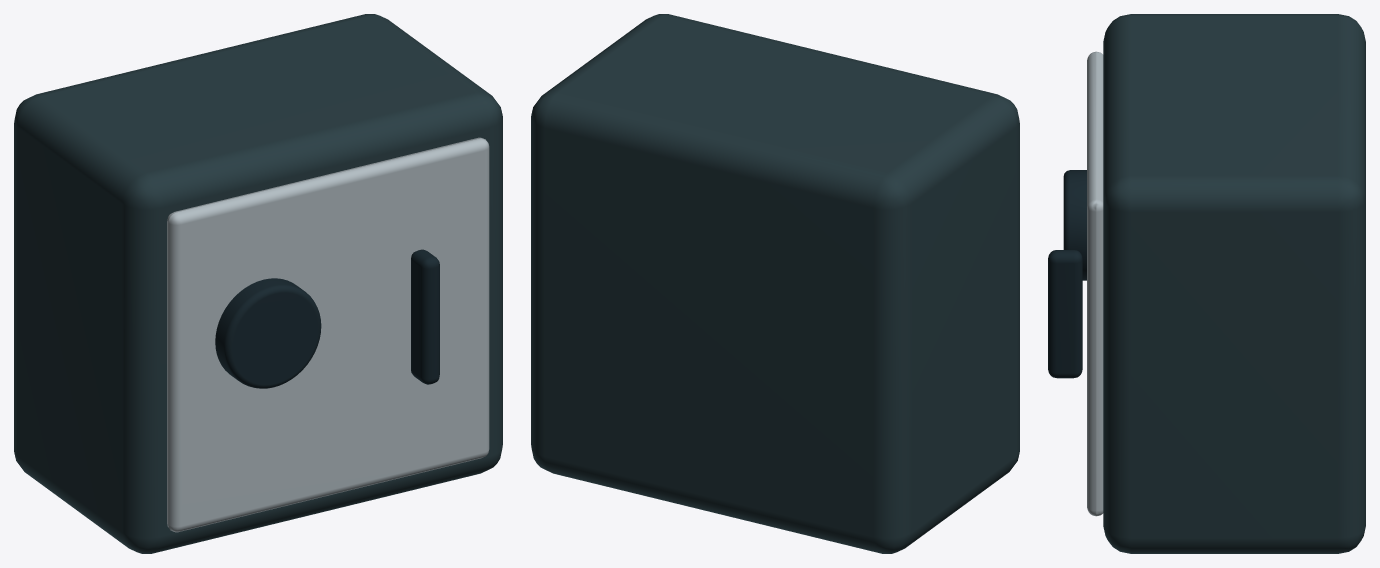
The model's file is entry-safe.glb.
3 views of the same model, side by side, from view 1: azimuth 30°, elevation 25°; view 2: azimuth 150°, elevation 25°; view 3: azimuth 270°, elevation 25° (orthographic).
Parts seen in each view (by area): view 1: Steel document safe, Inset safe door, Safe dial, Safe handle; view 2: Steel document safe; view 3: Steel document safe, Inset safe door, Safe handle, Safe dial.
Boxes of the visible parts, bbox=[...] form: Steel document safe: bbox=[14, 14, 502, 553]; Inset safe door: bbox=[167, 137, 489, 532]; Safe dial: bbox=[215, 278, 321, 388]; Safe handle: bbox=[411, 249, 439, 384]; Steel document safe: bbox=[531, 14, 1019, 553]; Steel document safe: bbox=[1103, 14, 1365, 553]; Inset safe door: bbox=[1087, 51, 1103, 516]; Safe handle: bbox=[1048, 250, 1082, 378]; Safe dial: bbox=[1063, 170, 1086, 280].
Bounding box in the file's own units: 3.4 × 3.26 × 2.5.
